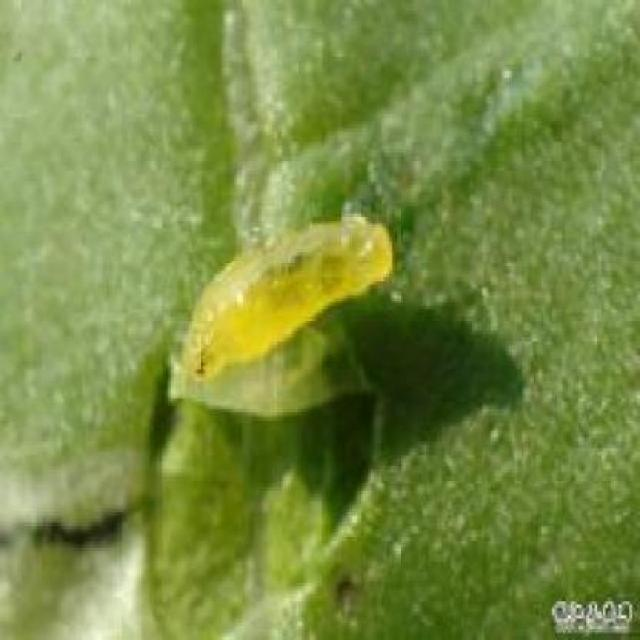whorl-maggot: (160, 198, 411, 384)
